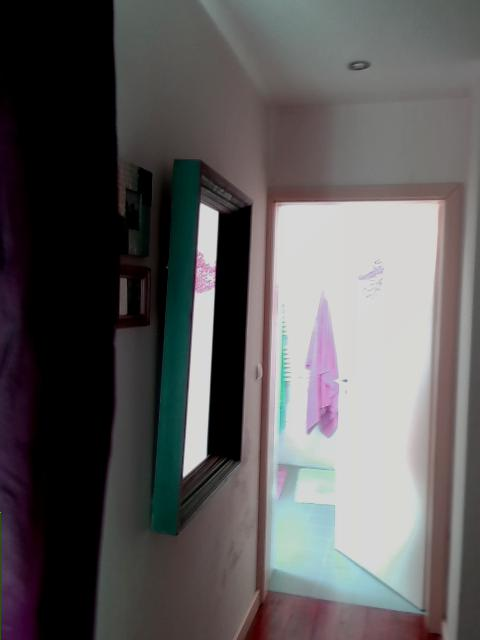semi_door: (256, 179, 469, 639)
